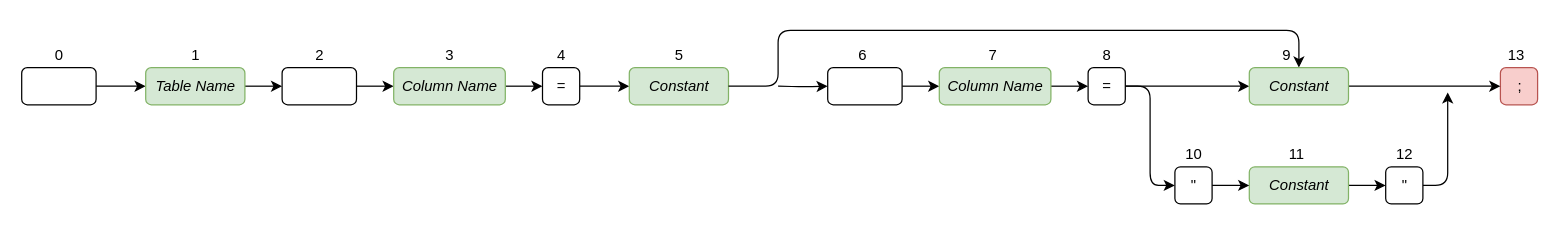
Some shapes in this 1560 by 226 pixel diagram are drawn without their labels. Here are the shapes that lost their labels. From the top down, the centre of each, then its label:
At (x=58, y=85): "UPDATE".
At (x=318, y=85): "SET".
At (x=864, y=85): "WHERE".
